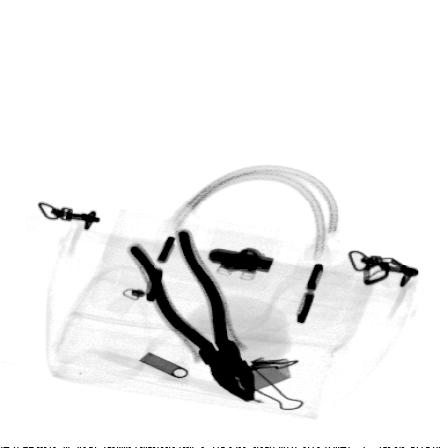Pliers: (126, 228, 256, 403)
